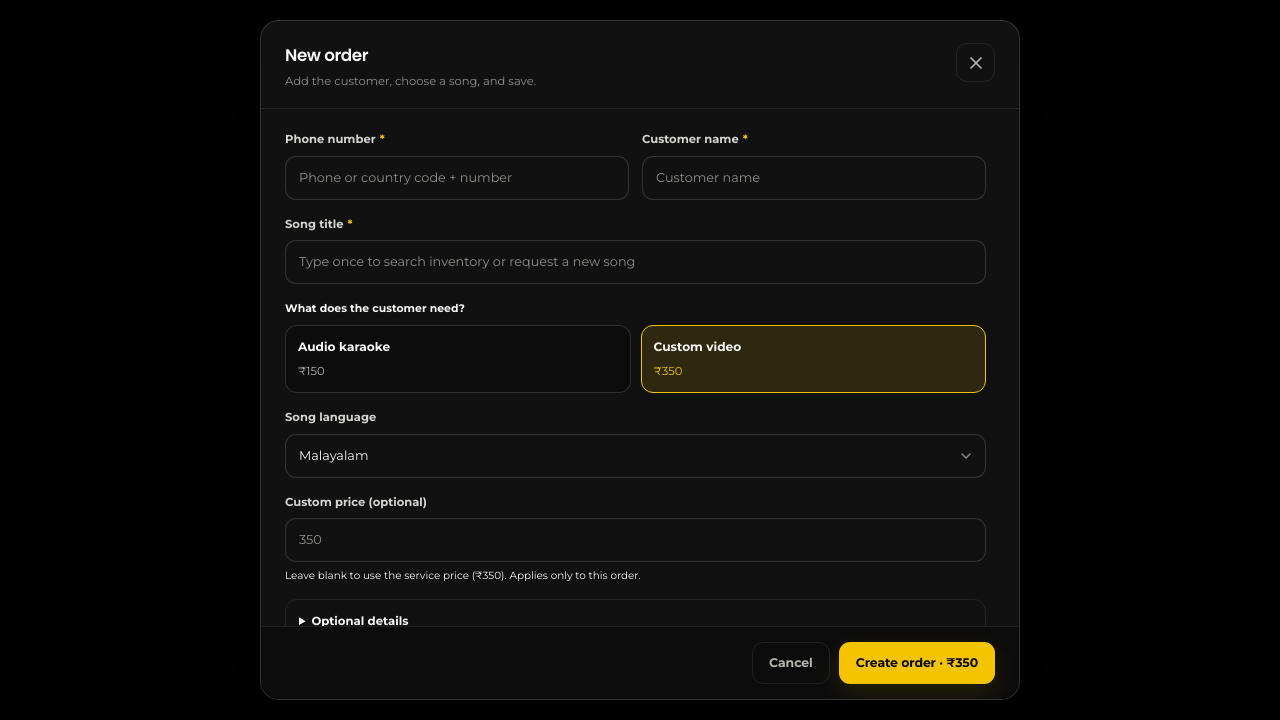
Test: quick order entry › rejects invalid custom price 0 before saving
This screenshot has width=1280, height=720.
Type "+968 95171126" into the field labelled "Phone number*" at (457, 178), box top-left (285, 156), bottom-right (629, 200)
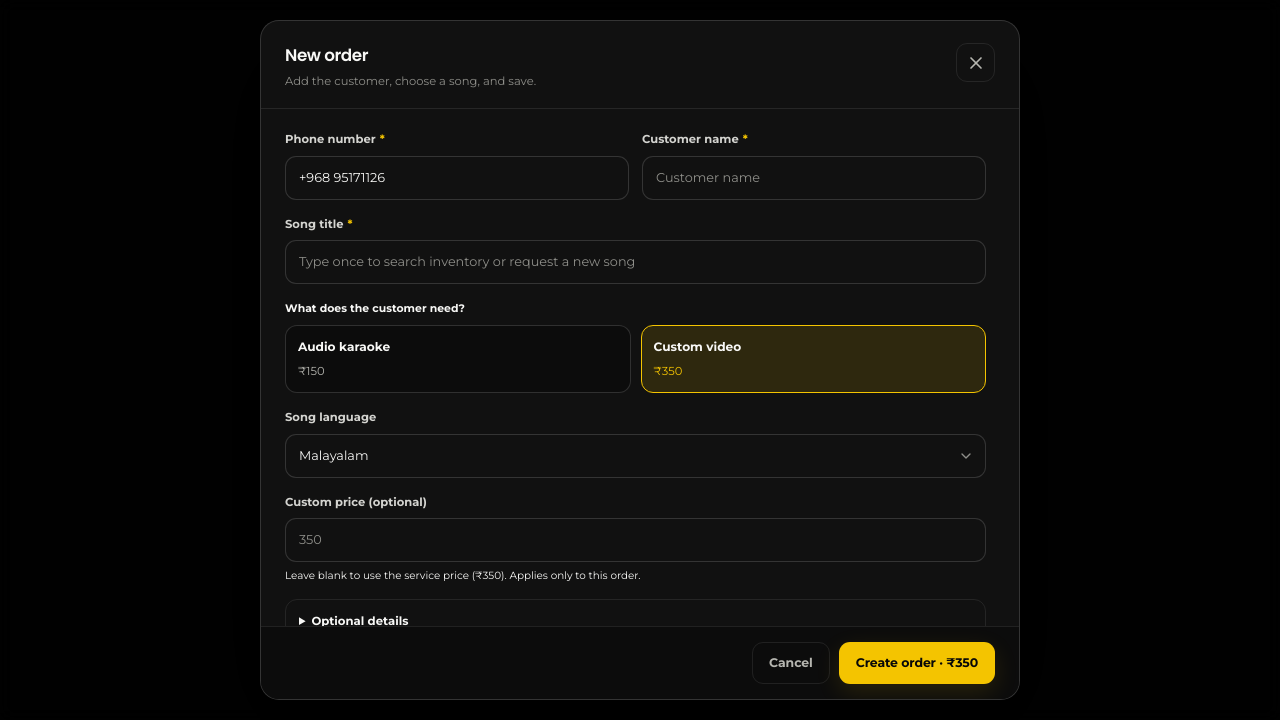
Type "New Customer" into the field labelled "Customer name*" at (814, 178), box top-left (642, 156), bottom-right (986, 200)
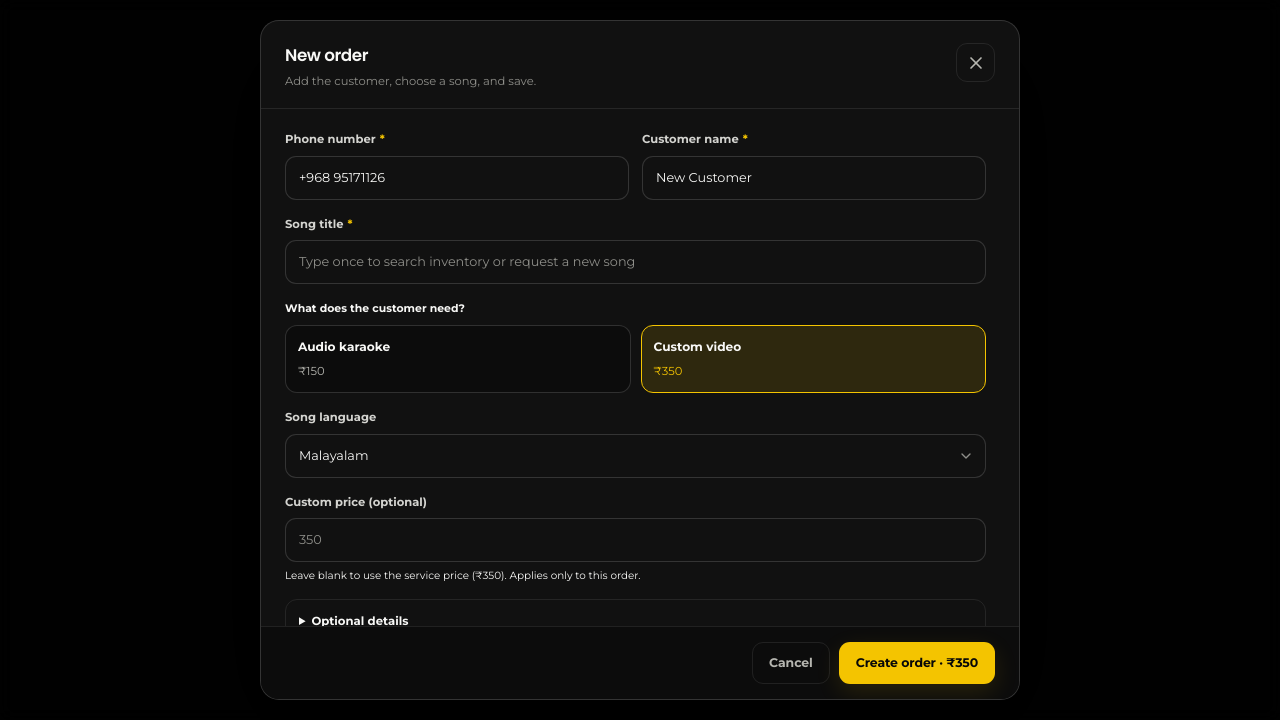
Type "New song" into the field labelled "Song title*" at (636, 262), box top-left (285, 240), bottom-right (986, 284)
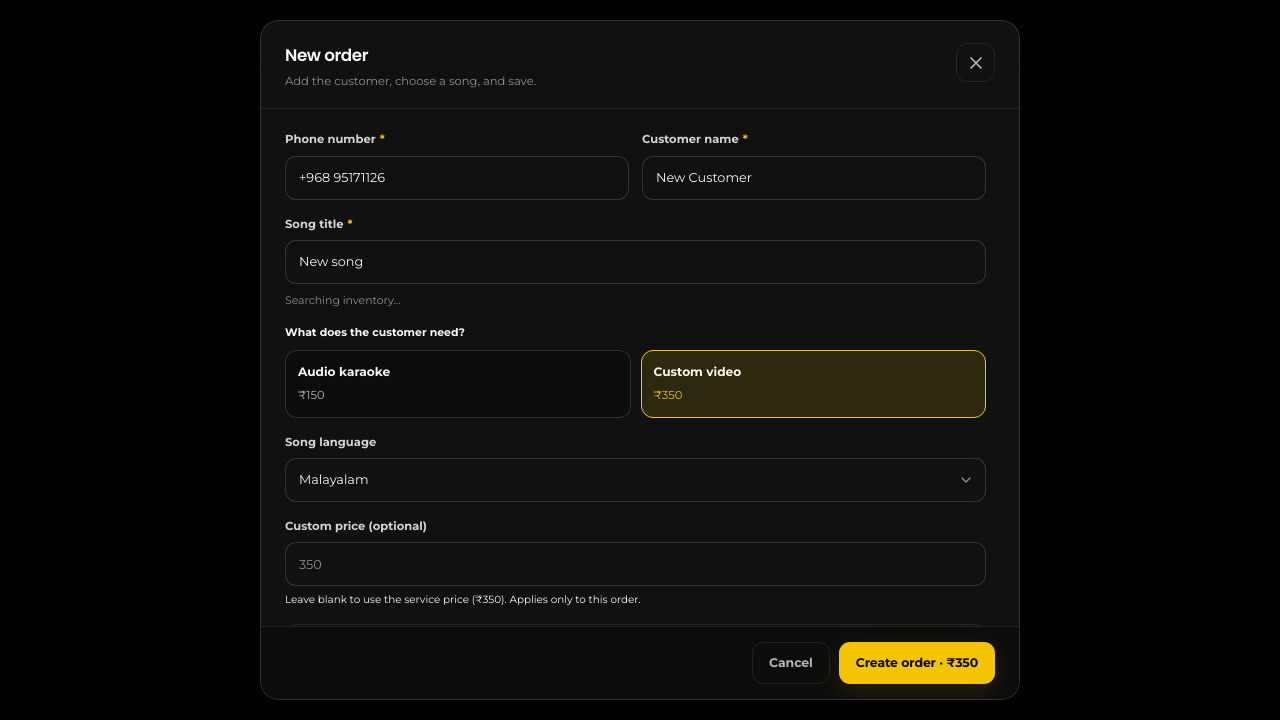
Type "0" into the number field labelled "Custom price" at (636, 564), box top-left (285, 542), bottom-right (986, 586)
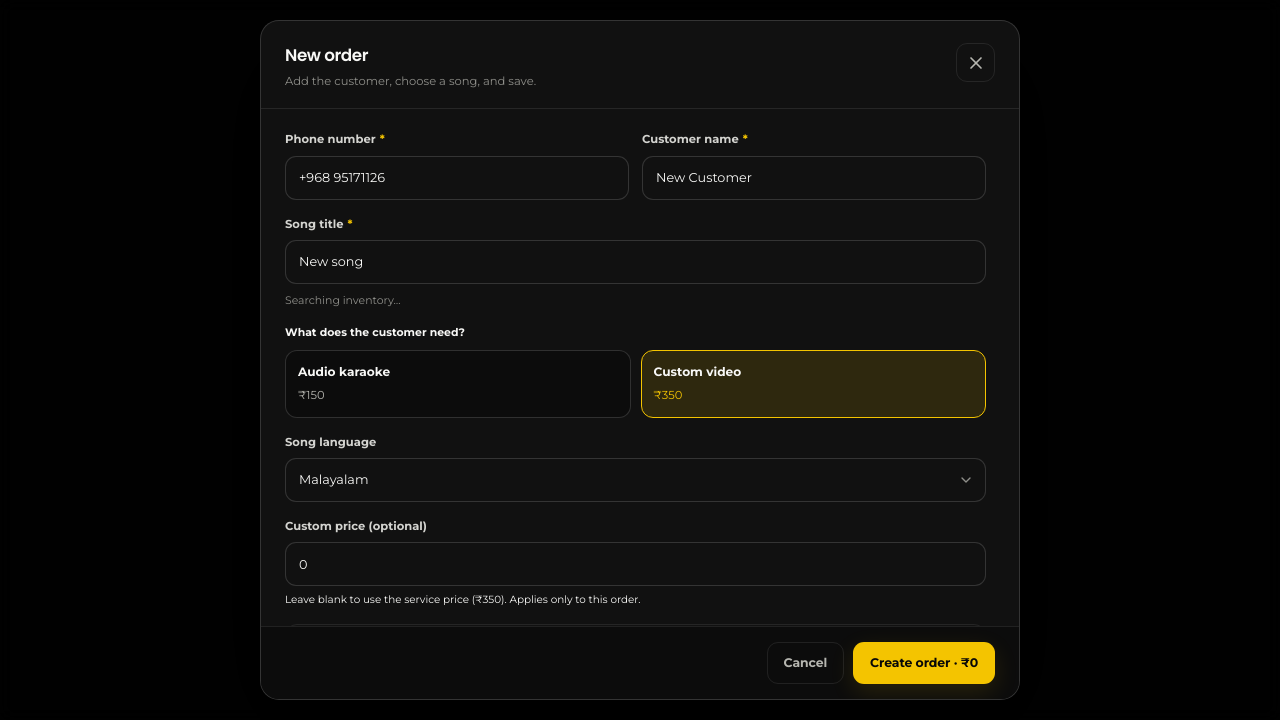
Submit the form labelled "Song title", box top-left (285, 132), bottom-right (986, 690)
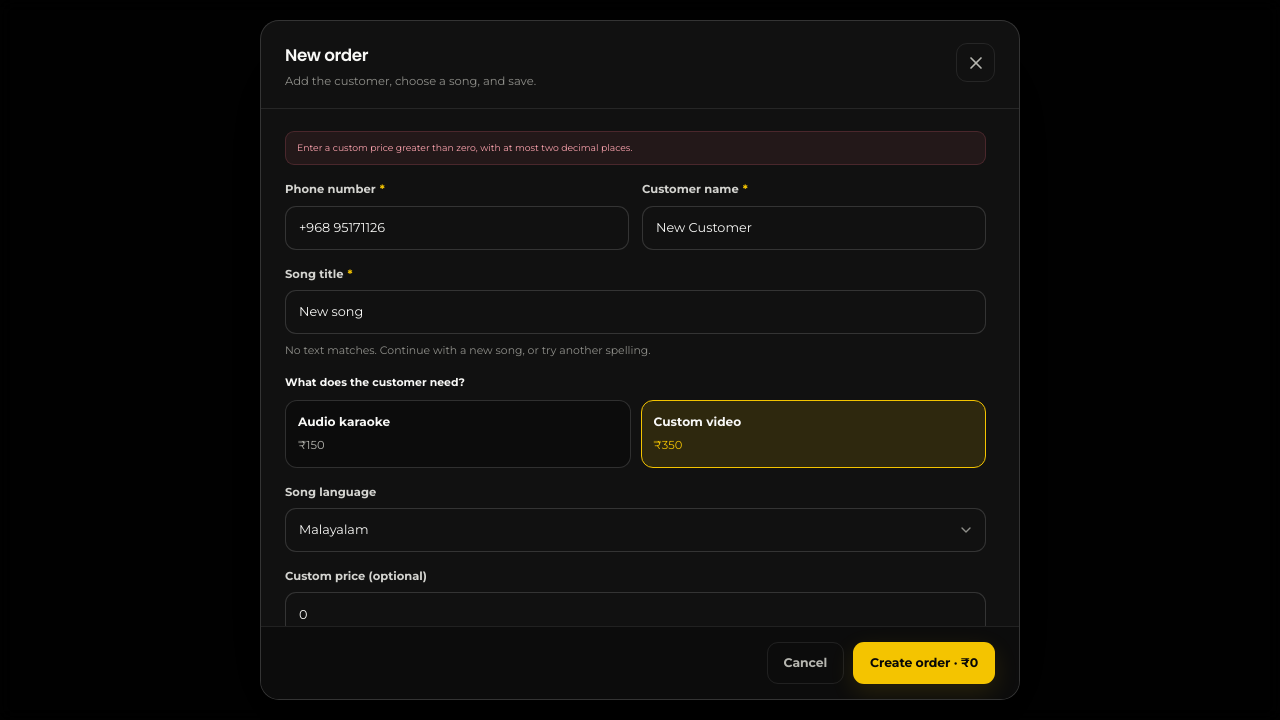
Result: the text "Enter a custom price greater than zero, with at most two decimal places." is shown at top-left (285, 132), bottom-right (986, 165)
